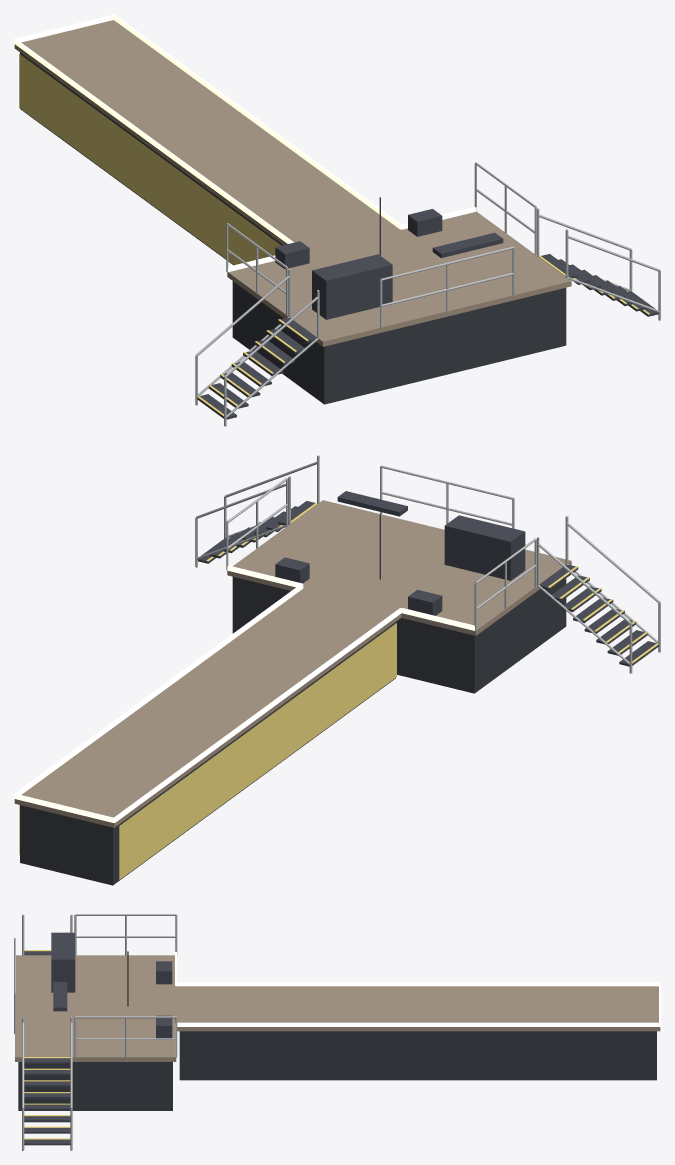
The model's file is SM_Podium.glb.
3 views of the same model, one above another, from view 1: azimuth 30°, elevation 25°; view 2: azimuth 150°, elevation 25°; view 3: azimuth 270°, elevation 25° (orthographic). The views are drawn at different scales.
Parts seen in each view (by area): view 1: SM_Podium_2, SM_Podium_0, SM_Podium_1, SM_Podium_113, SM_Podium_108, SM_Podium_56, SM_Podium_55, SM_Podium_3, SM_Podium_109, SM_Podium_111, SM_Podium_110, SM_Podium_57; view 2: SM_Podium_2, SM_Podium_0, SM_Podium_113, SM_Podium_1, SM_Podium_3, SM_Podium_108, SM_Podium_55, SM_Podium_56, SM_Podium_109, SM_Podium_110, SM_Podium_111; view 3: SM_Podium_3, SM_Podium_2, SM_Podium_0, SM_Podium_1, SM_Podium_56, SM_Podium_55, SM_Podium_108, SM_Podium_109, SM_Podium_110, SM_Podium_111.
Boxes of the visible parts, <box> form: SM_Podium_2: <box>14,20,399,251</box>; SM_Podium_0: <box>227,211,571,346</box>; SM_Podium_1: <box>232,281,566,404</box>; SM_Podium_113: <box>19,54,280,264</box>; SM_Podium_108: <box>312,254,392,319</box>; SM_Podium_56: <box>113,14,401,229</box>; SM_Podium_55: <box>14,39,293,243</box>; SM_Podium_3: <box>20,52,282,265</box>; SM_Podium_109: <box>432,232,503,258</box>; SM_Podium_111: <box>408,209,442,236</box>; SM_Podium_110: <box>275,241,309,269</box>; SM_Podium_57: <box>14,14,114,42</box>; SM_Podium_2: <box>14,588,401,827</box>; SM_Podium_0: <box>227,500,571,635</box>; SM_Podium_113: <box>119,623,396,879</box>; SM_Podium_1: <box>232,577,566,693</box>; SM_Podium_3: <box>20,622,395,885</box>; SM_Podium_108: <box>444,515,525,580</box>; SM_Podium_55: <box>113,608,401,822</box>; SM_Podium_56: <box>14,584,303,797</box>; SM_Podium_109: <box>337,491,407,516</box>; SM_Podium_110: <box>408,589,442,615</box>; SM_Podium_111: <box>275,557,309,583</box>; SM_Podium_3: <box>179,1031,656,1080</box>; SM_Podium_2: <box>176,986,660,1031</box>; SM_Podium_0: <box>15,955,176,1061</box>; SM_Podium_1: <box>18,1062,172,1110</box>; SM_Podium_56: <box>177,1022,660,1026</box>; SM_Podium_55: <box>176,982,660,986</box>; SM_Podium_108: <box>51,932,75,992</box>; SM_Podium_109: <box>53,982,67,1011</box>; SM_Podium_110: <box>156,961,172,984</box>; SM_Podium_111: <box>156,1015,172,1038</box>.
Size of the model in its own units: 10.54 by 3 by 16.05.
